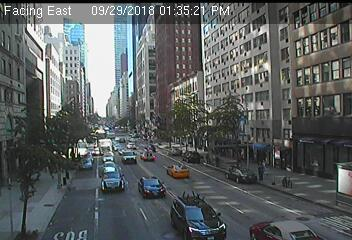car: (171, 193, 227, 240), (250, 221, 323, 240), (137, 176, 166, 199), (100, 168, 126, 193), (225, 167, 257, 183), (167, 164, 190, 180), (182, 151, 201, 164), (120, 151, 137, 164), (139, 149, 156, 162), (102, 161, 116, 174), (100, 154, 115, 164), (79, 158, 92, 169), (167, 148, 181, 157), (83, 153, 93, 162)
